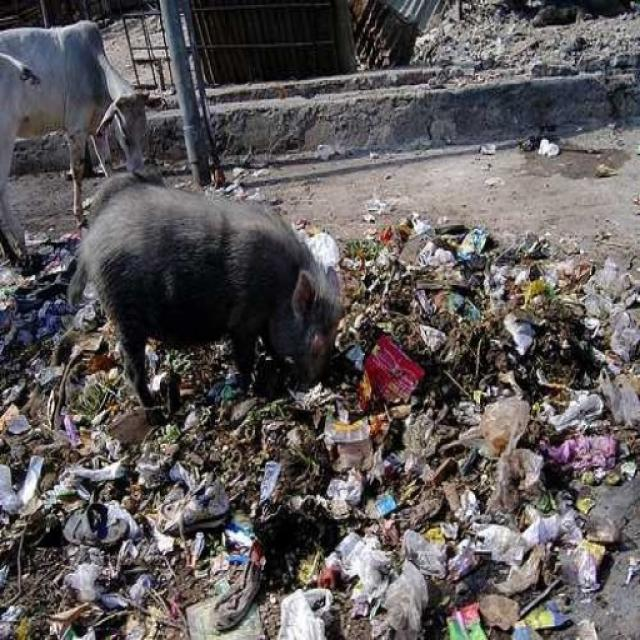pig: (72, 130, 350, 370)
